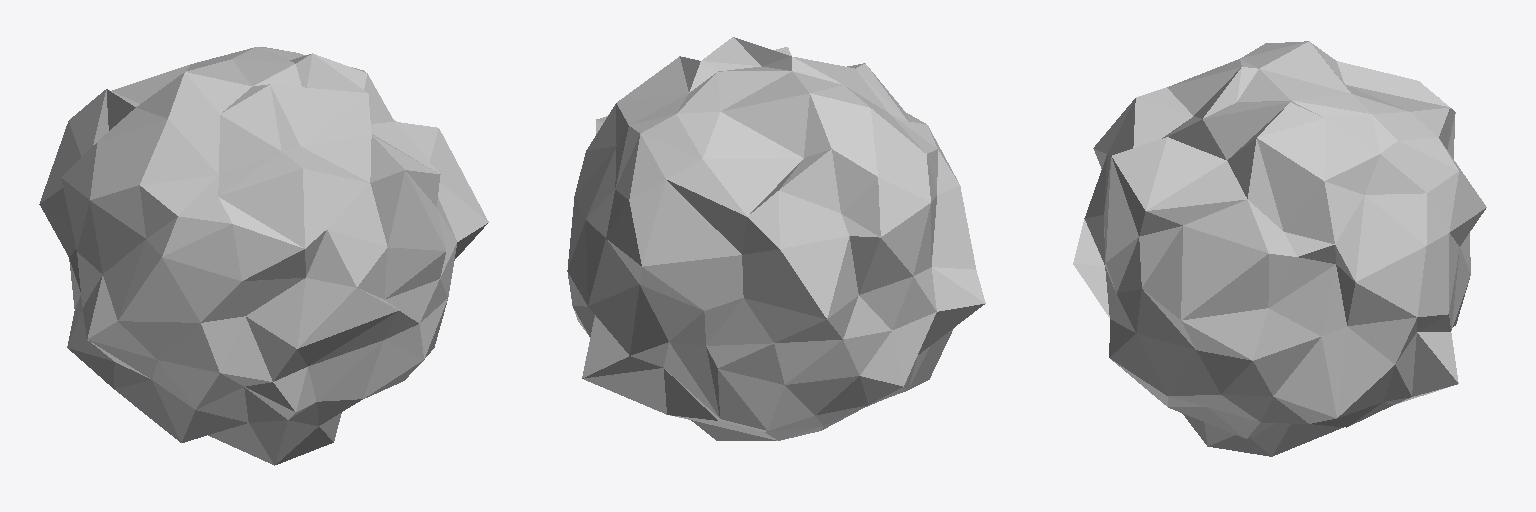
File: fire_000038.obj
3 views of the same model, side by side, from view 1: azimuth 30°, elevation 25°; view 2: azimuth 150°, elevation 25°; view 3: azimuth 270°, elevation 25° (orthographic).
Parts seen in each view (by area): view 1: Icosphere; view 2: Icosphere; view 3: Icosphere.
Part boxes in pixels (bbox=[...]): Icosphere: bbox=[39, 47, 488, 465]; Icosphere: bbox=[567, 37, 985, 440]; Icosphere: bbox=[1073, 41, 1486, 456].
Size of the model in its own units: 1.12 by 1.04 by 1.04.